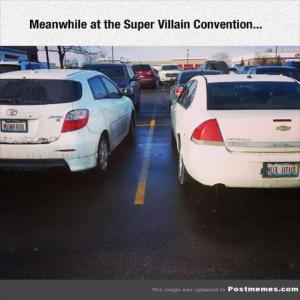Vehicle-registration-plate: (264, 162, 300, 178), (1, 120, 27, 134)
